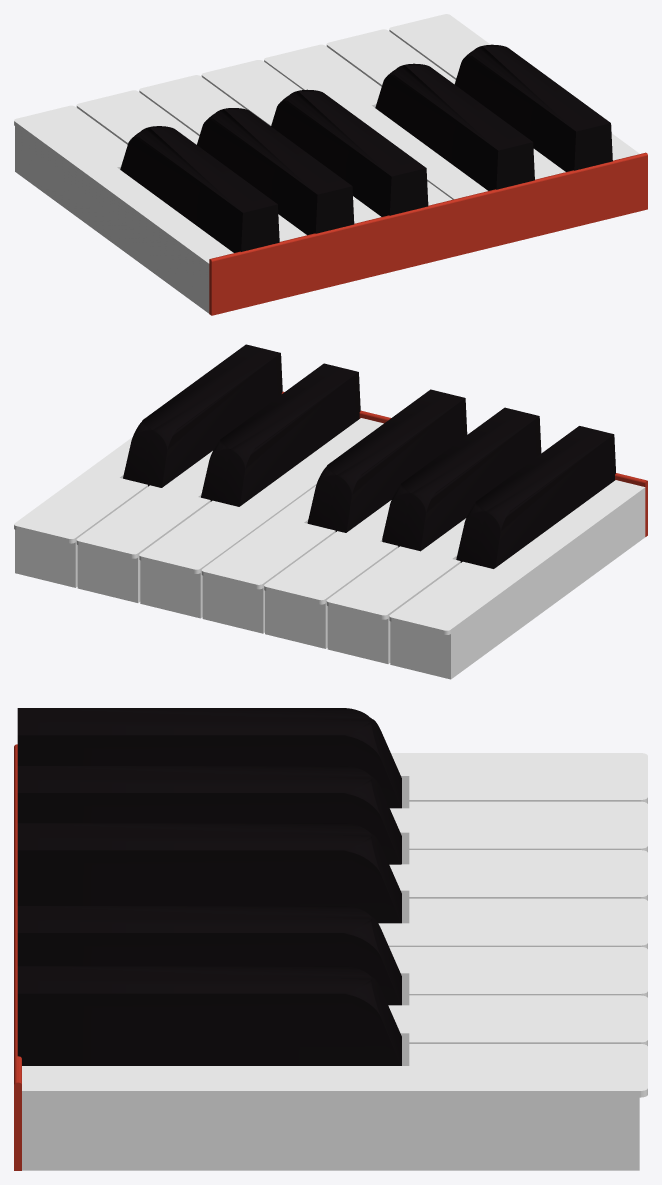
The model's file is PianoModel.fbx.
The picture shows the model from 3 angles, top to bottom: view 1: azimuth 30°, elevation 25°; view 2: azimuth 150°, elevation 25°; view 3: azimuth 270°, elevation 25°; orthographic projection. The views are drawn at different scales.
Parts seen in each view (by area): view 1: Velvet, B, EFlat, BFlat, CSharp, GSharp, FSharp, E, C, D, F, A (+1 smaller); view 2: B, EFlat, BFlat, CSharp, E, GSharp, FSharp, D, A, G, C, F (+1 smaller); view 3: C, CSharp, FSharp, EFlat, BFlat, GSharp, D, G, E, F, A, B (+1 smaller).
Part boxes in pixels (x1,y1,x2,y2): Velvet: [209, 152, 647, 315]; B: [14, 105, 233, 313]; EFlat: [375, 63, 534, 190]; BFlat: [120, 126, 279, 252]; CSharp: [454, 44, 612, 171]; GSharp: [197, 108, 354, 235]; FSharp: [271, 89, 428, 216]; E: [264, 44, 487, 199]; C: [389, 14, 639, 160]; D: [326, 29, 565, 179]; F: [201, 60, 452, 205]; A: [76, 90, 306, 241]; B: [389, 480, 645, 679]; EFlat: [201, 363, 360, 506]; BFlat: [456, 426, 615, 568]; CSharp: [123, 344, 282, 487]; E: [139, 418, 383, 618]; GSharp: [382, 407, 541, 551]; FSharp: [307, 389, 467, 532]; D: [76, 451, 212, 602]; A: [326, 518, 465, 663]; G: [264, 500, 398, 648]; C: [14, 437, 147, 587]; F: [201, 486, 335, 633]; C: [22, 1044, 647, 1170]; CSharp: [17, 966, 401, 1065]; FSharp: [17, 823, 401, 923]; EFlat: [17, 906, 401, 1005]; BFlat: [17, 708, 401, 808]; GSharp: [17, 766, 401, 864]; D: [388, 995, 647, 1065]; G: [389, 850, 647, 923]; E: [389, 947, 647, 1005]; F: [378, 898, 647, 948]; A: [390, 801, 647, 864]; B: [391, 753, 647, 808].
Size of the model in its own units: 3.17 by 0.6537 by 2.51.
